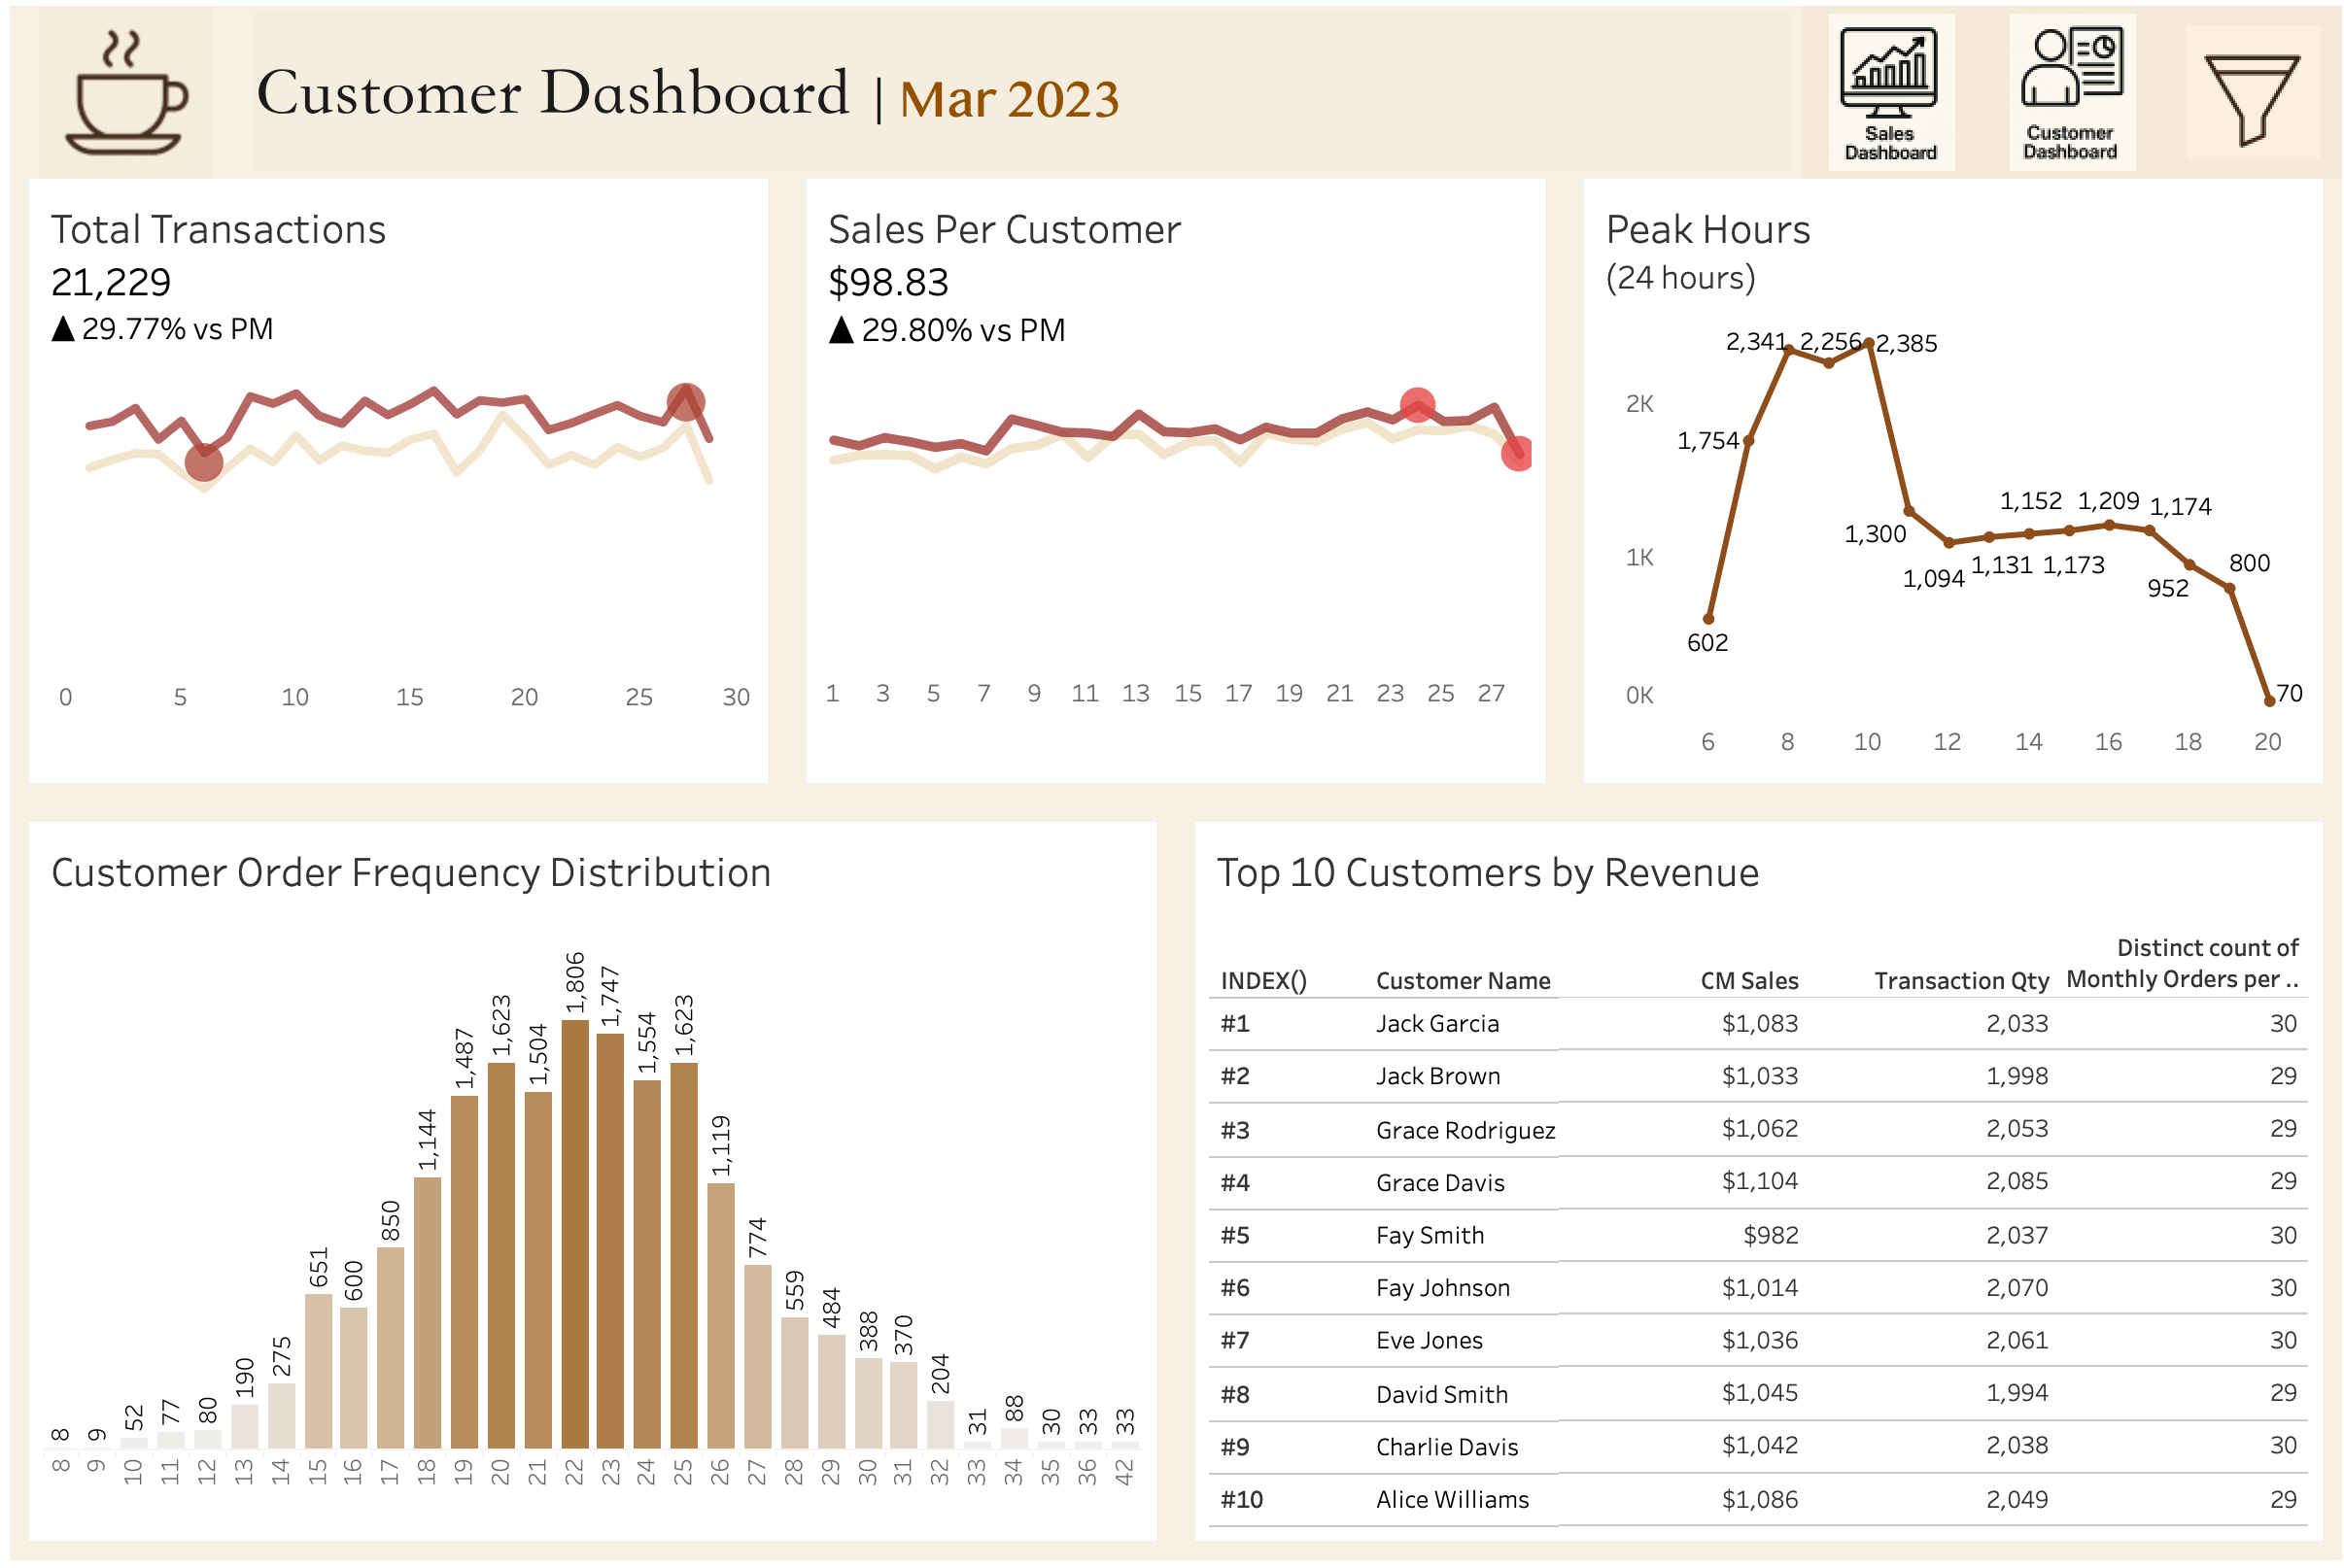

Layout of this report page (visuals, bound fields, positions):
{"tool":"tableau","page":{"name":"Custommer Dashboard","canvas":[1200,800],"ordinal":0},"visuals":[{"type":"image","param":"Image/Icon2.png","box":[0,0,120,89]},{"type":"text","box":[120,0,802,89]},{"type":"dashboard-object","box":[922,0,93,89]},{"type":"dashboard-object","box":[1015,0,93,89]},{"type":"dashboard-object","box":[1108,0,92,89]},{"type":"worksheet","title":"Total Tran","mark":"Line","rows":["Calculation_3081588110070910978"],"cols":["transaction_date"],"box":[0,89,400,321]},{"type":"worksheet","title":"Sales Per Customers","mark":"Line","rows":["Calculation_3172645265061994496"],"cols":["transaction_date"],"box":[400,89,400,321]},{"type":"worksheet","title":"Peak Hours","mark":"Line","rows":["transaction_id"],"cols":["Hour"],"box":[800,89,400,321]},{"type":"text","box":[908,97,284,32]},{"type":"text","box":[908,129,284,41.8]},{"type":"parameter","param":"[Parameters].[Parameter 1]","box":[908,170.8,284,41.8]},{"type":"text","box":[908,212.6,284,41.8]},{"type":"filter","title":"Customer Contribution","param":"[federated.1cw3f6g1wk77oe1g50jml00lt89d].[none:product_category:nk]","box":[908,254.4,284,41.8]},{"type":"filter","title":"Customer Contribution","param":"[federated.1cw3f6g1wk77oe1g50jml00lt89d].[none:Size:nk]","box":[908,296.2,284,32]},{"type":"text","box":[908,328.2,284,41.8]},{"type":"filter","title":"Customer Contribution","param":"[federated.1cw3f6g1wk77oe1g50jml00lt89d].[none:store_location:nk]","box":[908,370,284,32]},{"type":"worksheet","title":"Customer Contribution","mark":"Bar","rows":["Calculation_2925299129063137280"],"cols":["Calculation_3207477793444126720"],"box":[0,410,600,390]},{"type":"worksheet","title":"Top 10 Customers","mark":"Automatic","rows":["Calculation_3207477793457430532","customer_name"],"box":[600,410,600,390]}]}

Visuals, with their boxes in screenshot pixels (x1, y1, x2, y2), scaled from the page's 1200x800 canvas onto the 2344x1568 screenshot:
image: [0, 0, 234, 175]
text: [234, 0, 1801, 175]
dashboard-object: [1801, 0, 1982, 175]
dashboard-object: [1982, 0, 2164, 175]
dashboard-object: [2164, 0, 2343, 175]
"Total Tran" worksheet (Line marks): [0, 175, 781, 803]
"Sales Per Customers" worksheet (Line marks): [781, 175, 1563, 803]
"Peak Hours" worksheet (Line marks): [1563, 175, 2343, 803]
text: [1774, 190, 2328, 253]
text: [1774, 253, 2328, 335]
parameter: [1774, 335, 2328, 417]
text: [1774, 417, 2328, 498]
"Customer Contribution" filter: [1774, 498, 2328, 581]
"Customer Contribution" filter: [1774, 581, 2328, 643]
text: [1774, 643, 2328, 725]
"Customer Contribution" filter: [1774, 725, 2328, 788]
"Customer Contribution" worksheet (Bar marks): [0, 803, 1172, 1567]
"Top 10 Customers" worksheet: [1172, 803, 2343, 1567]
